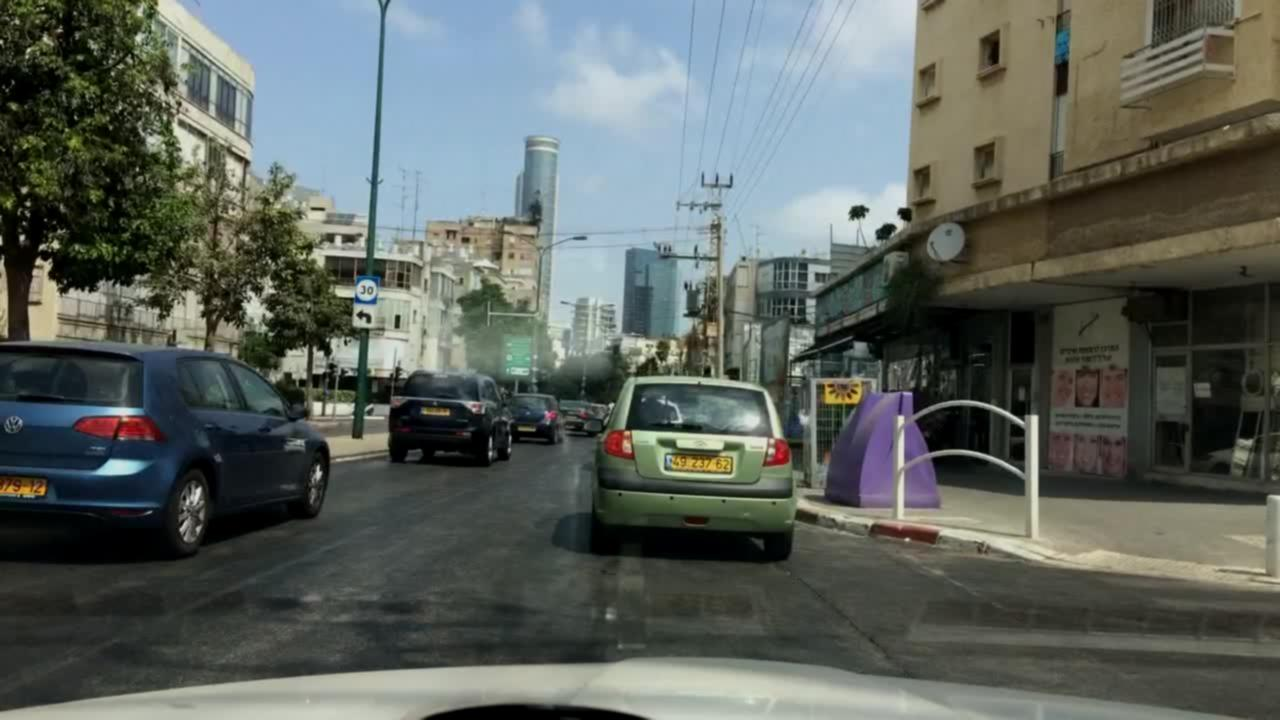Volkswagen: (0, 405, 38, 443)
